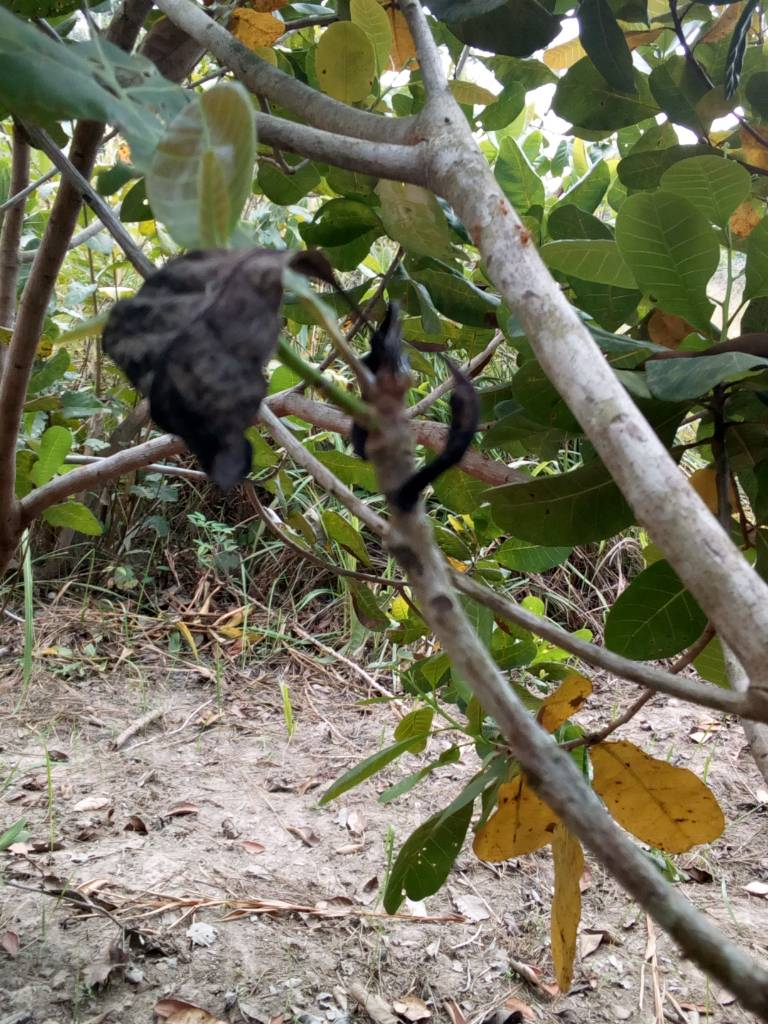Dessèchement des bourgeons: (402, 352, 477, 508), (360, 299, 410, 371)
